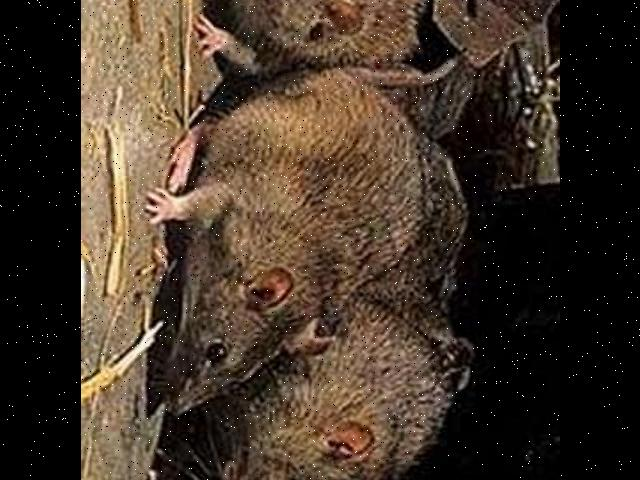Tikus: (134, 75, 431, 409), (181, 0, 443, 66)
